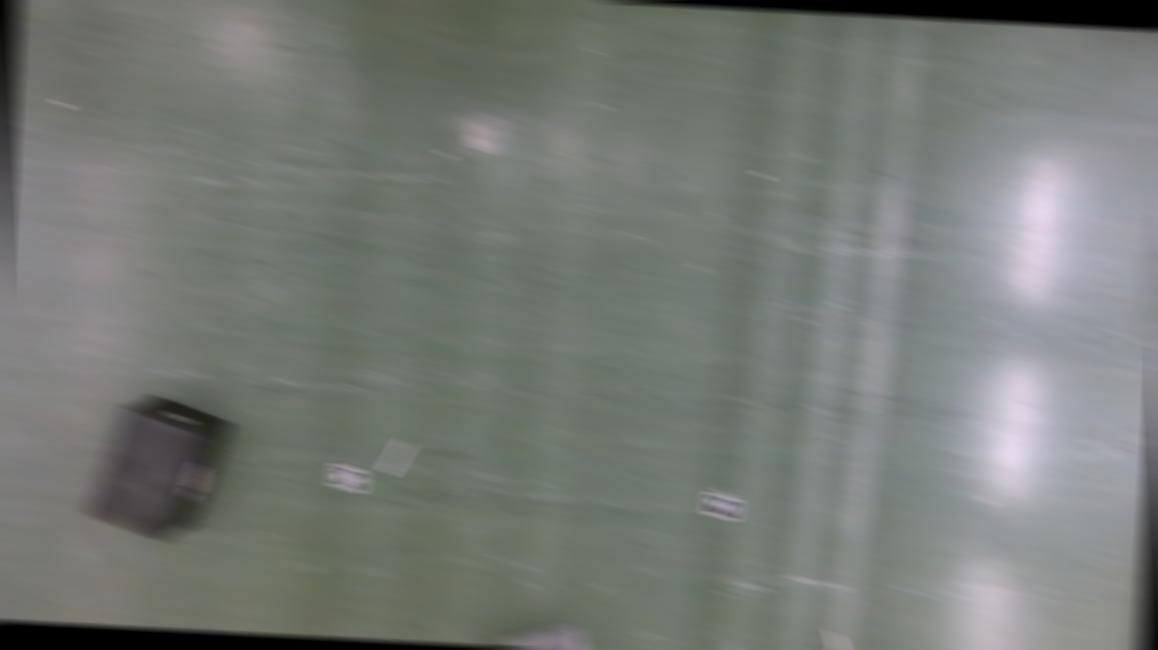probes: (384, 435, 413, 474), (828, 628, 852, 650)
rako: (84, 388, 234, 543)
